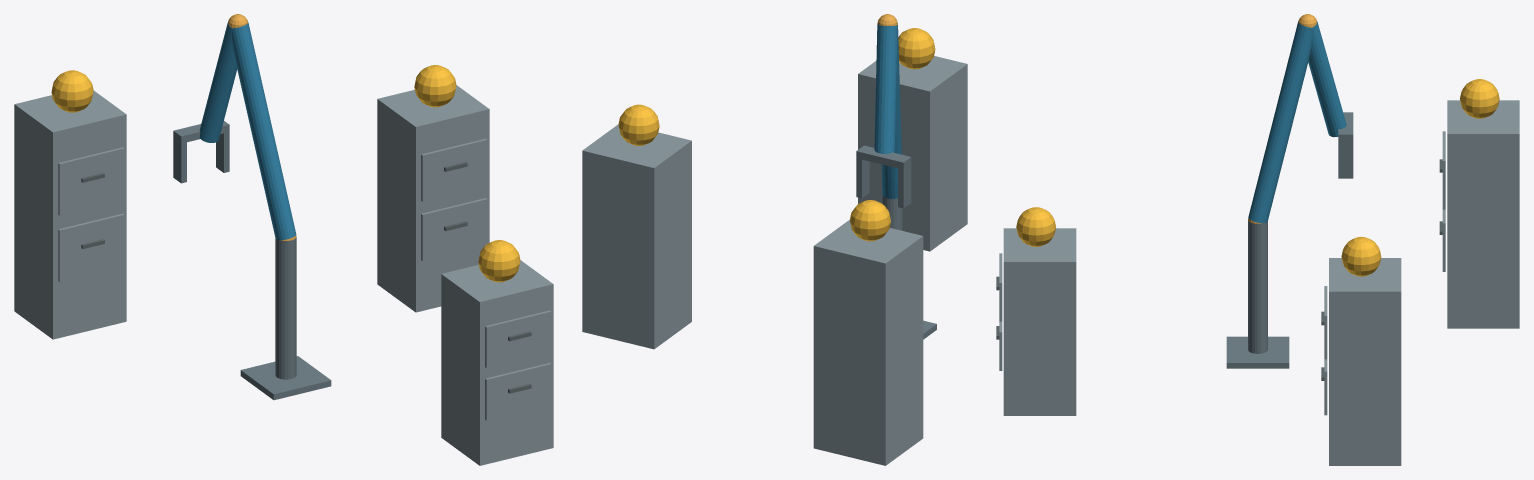
3 renders of one model, left to right at view 1: azimuth 30°, elevation 25°; view 2: azimuth 150°, elevation 25°; view 3: azimuth 270°, elevation 25°, orthographic. The views are drawn at different scales.
Parts seen in each view (by area): view 1: cabinet_3 body, cabinet_2 body, cabinet_1 body, moving link 1, cabinet_3 drawer front.001, cabinet_3 drawer front, cabinet_2 drawer front, cabinet_2 drawer front.001, fixed post, cabinet_1 drawer front.001, cabinet_1 drawer front, moving link 2 (+5 smaller); view 2: cabinet_3 body, cabinet_2 body, cabinet_1 body, moving link 2, ball ball_3, released ball_2, released ball_1, moving link 1, gripper bridge, gripper finger -1, gripper finger 1, fixed post; view 3: cabinet_3 body, cabinet_2 body, cabinet_1 body, moving link 1, fixed post, moving link 2, pedestal, released ball_2, ball ball_3, released ball_1, gripper finger 1.
Part boxes in pixels (left/top/right/bottom): cabinet_3 body: left=14, top=90, right=126, bottom=339; cabinet_2 body: left=377, top=85, right=489, bottom=312; cabinet_1 body: left=441, top=260, right=553, bottom=465; moving link 1: left=232, top=22, right=296, bottom=240; cabinet_3 drawer front.001: left=58, top=147, right=124, bottom=215; cabinet_3 drawer front: left=58, top=213, right=124, bottom=281; cabinet_2 drawer front: left=421, top=198, right=487, bottom=261; cabinet_2 drawer front.001: left=421, top=138, right=487, bottom=201; fixed post: left=275, top=237, right=296, bottom=379; cabinet_1 drawer front.001: left=485, top=310, right=551, bottom=368; cabinet_1 drawer front: left=485, top=363, right=551, bottom=420; moving link 2: left=199, top=21, right=237, bottom=142; cabinet_3 body: left=813, top=219, right=923, bottom=465; cabinet_2 body: left=582, top=124, right=691, bottom=349; cabinet_1 body: left=858, top=56, right=967, bottom=251; moving link 2: left=874, top=24, right=897, bottom=153; ball ball_3: left=850, top=200, right=890, bottom=241; released ball_2: left=618, top=104, right=659, bottom=145; released ball_1: left=898, top=28, right=935, bottom=69; moving link 1: left=881, top=23, right=901, bottom=199; gripper bridge: left=856, top=145, right=911, bottom=169; gripper finger -1: left=898, top=164, right=911, bottom=208; gripper finger 1: left=856, top=158, right=869, bottom=198; fixed post: left=882, top=195, right=902, bottom=230; cabinet_3 body: left=1447, top=100, right=1519, bottom=328; cabinet_2 body: left=1329, top=258, right=1401, bottom=465; cabinet_1 body: left=1003, top=228, right=1076, bottom=415; moving link 1: left=1248, top=21, right=1311, bottom=223; fixed post: left=1248, top=220, right=1267, bottom=353; moving link 2: left=1308, top=21, right=1346, bottom=137; pedestal: left=1226, top=336, right=1289, bottom=368; released ball_2: left=1341, top=236, right=1381, bottom=276; ball ball_3: left=1460, top=79, right=1499, bottom=118; released ball_1: left=1016, top=207, right=1055, bottom=246; gripper finger 1: left=1338, top=141, right=1353, bottom=178.
Bounding box in the file's own units: 1.62 × 1.46 × 2.1.
